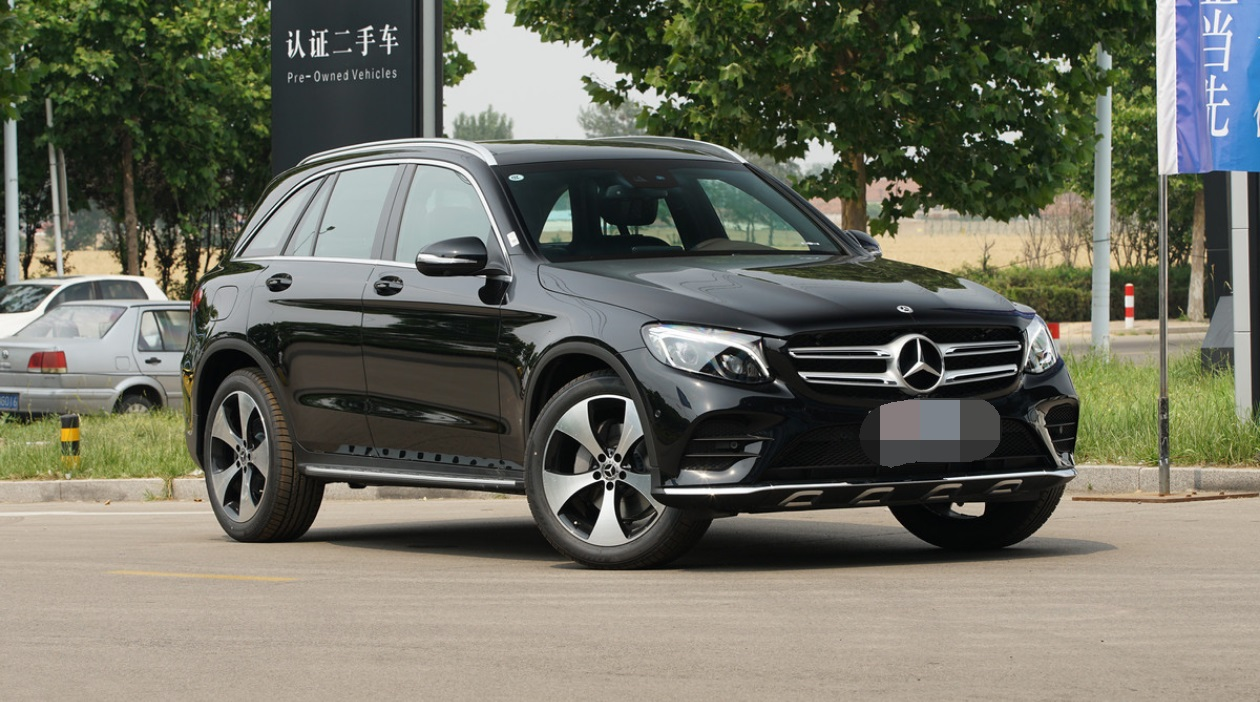SUV: (183, 136, 1084, 565)
